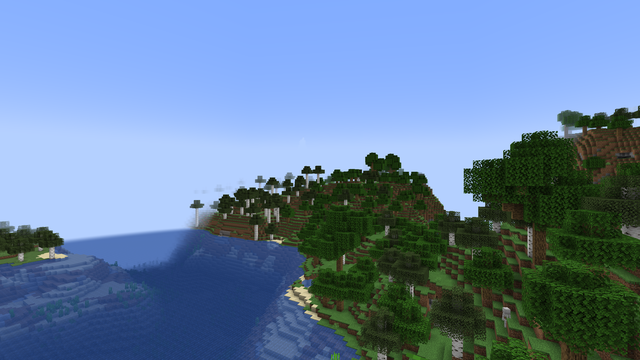squelettes: (502, 306, 509, 328)
